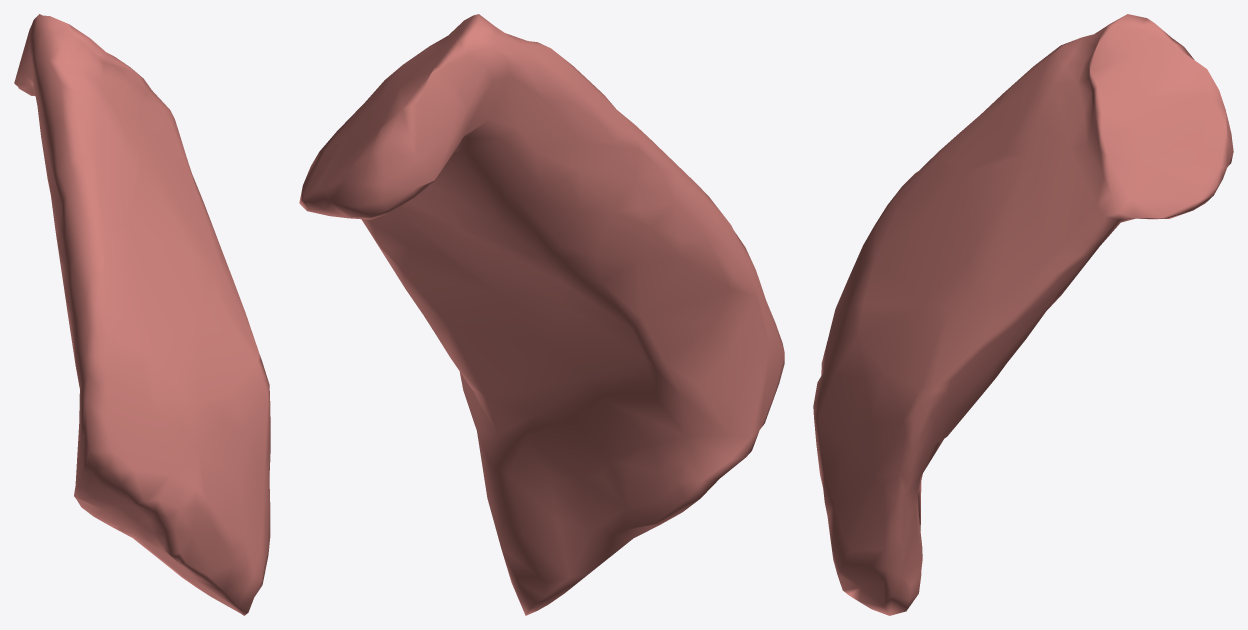
Rendered from fma81540_mm1320.glb.
3 views of the same model, side by side, from view 1: azimuth 30°, elevation 25°; view 2: azimuth 150°, elevation 25°; view 3: azimuth 270°, elevation 25° (orthographic). The views are drawn at different scales.
Parts seen in each view (by area): view 1: FMA81540_MM1320; view 2: FMA81540_MM1320; view 3: FMA81540_MM1320.
Boxes of the visible parts, bbox=[...] form: FMA81540_MM1320: bbox=[14, 14, 270, 615]; FMA81540_MM1320: bbox=[299, 14, 784, 615]; FMA81540_MM1320: bbox=[813, 14, 1233, 615].
Bounding box in the file's own units: 0.00493 × 0.0118 × 0.00797.
